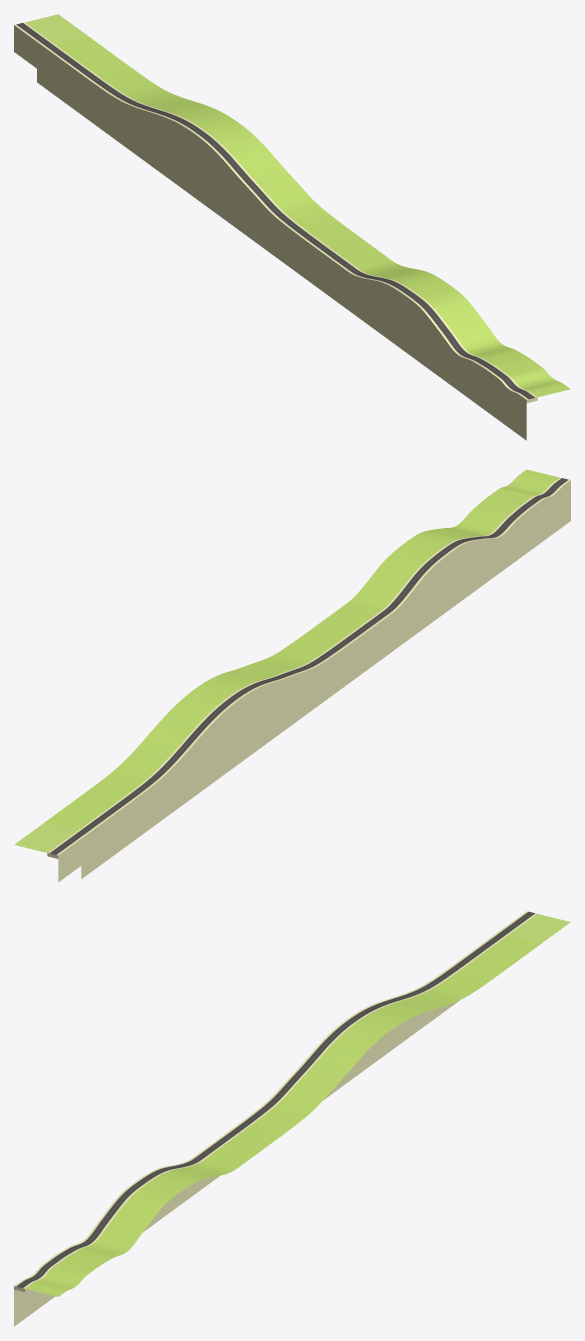
Rendered from envi2_1.fbx.
The picture shows the model from 3 angles, top to bottom: view 1: azimuth 30°, elevation 25°; view 2: azimuth 150°, elevation 25°; view 3: azimuth 330°, elevation 25°; orthographic projection.
Visible parts, largest first — view 1: Cube.001, Cube.002; view 2: Cube.001, Cube.002; view 3: Cube.001, Cube.002.
Part boxes in pixels (x1,y1,x2,y2): Cube.001: [14, 14, 570, 440]; Cube.002: [16, 23, 534, 399]; Cube.001: [14, 469, 570, 882]; Cube.002: [50, 478, 568, 854]; Cube.001: [14, 911, 570, 1326]; Cube.002: [16, 911, 534, 1287].
Size of the model in its own units: 2693 by 3707 by 53809.
2 materials, 2 textured.
